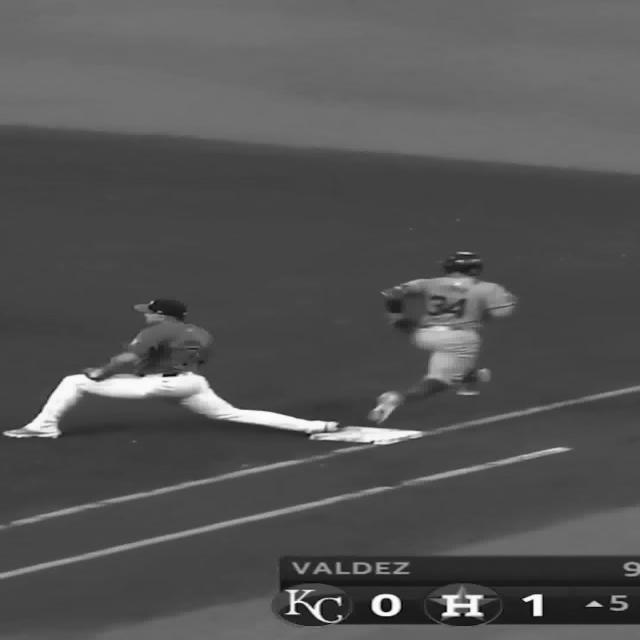base: (310, 427, 426, 448)
baseball_glove: (78, 368, 122, 377)
shoe: (366, 391, 402, 424), (455, 368, 491, 396), (2, 426, 61, 438), (305, 420, 339, 436)
